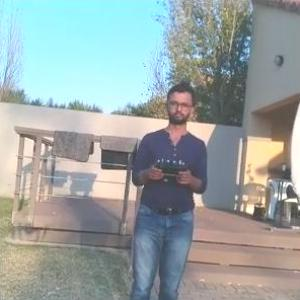follow: (126, 77, 210, 299)
